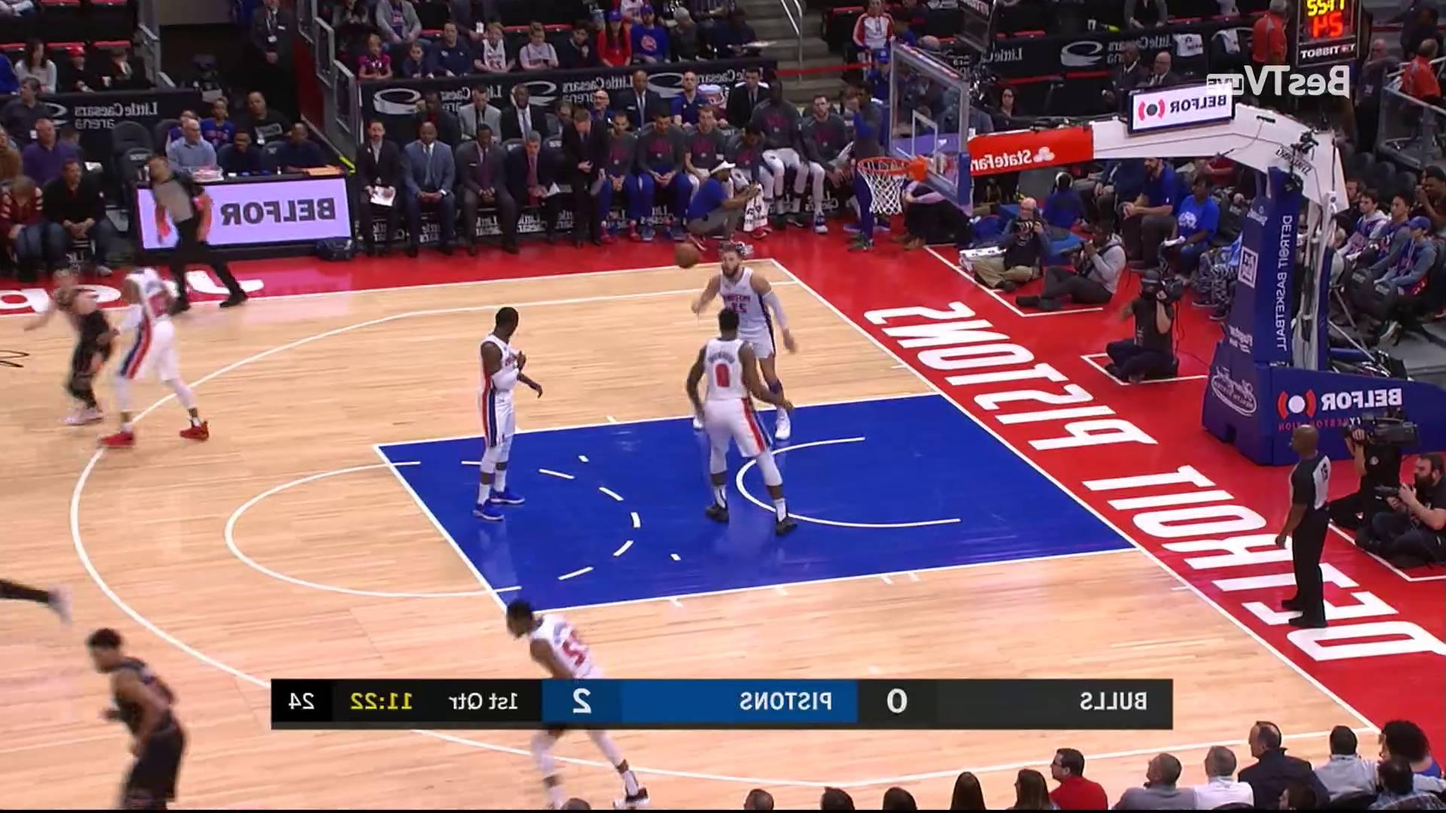basketball: (674, 243, 700, 270)
